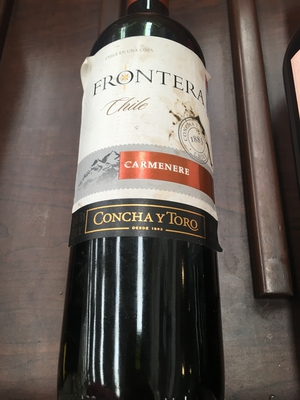frontera carmenere: (72, 8, 215, 399)
